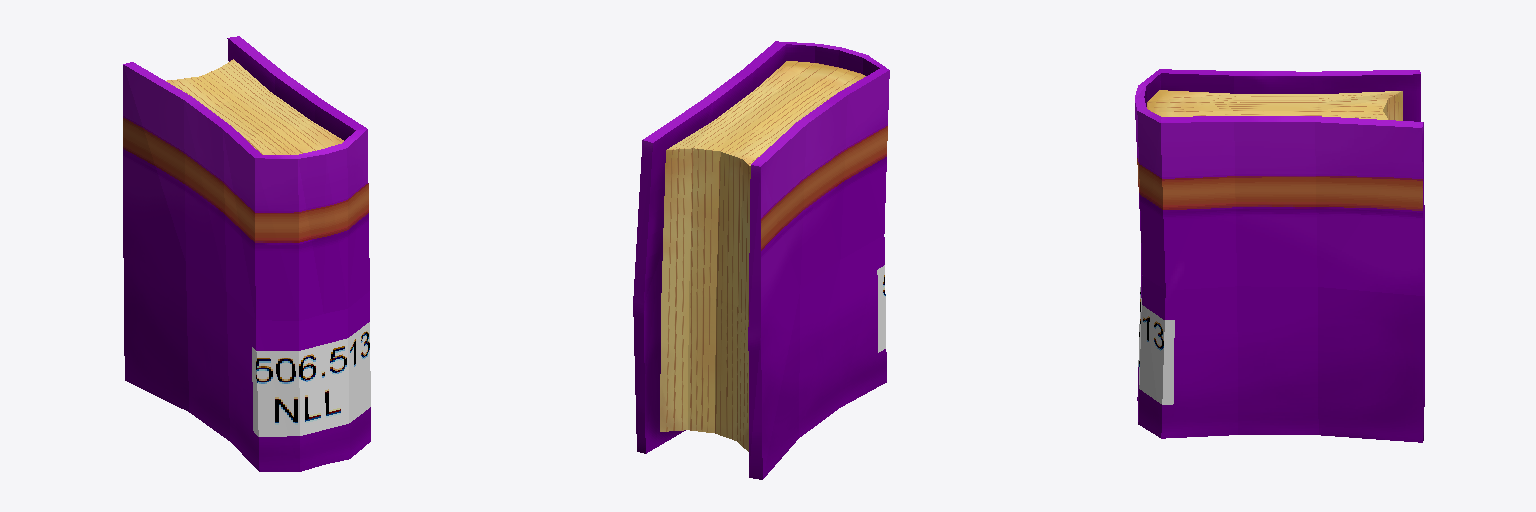
3 renders of one model, left to right at view 1: azimuth 30°, elevation 25°; view 2: azimuth 150°, elevation 25°; view 3: azimuth 270°, elevation 25°, orthographic.
Visible parts, largest first — view 1: Cover.001, Pages.002; view 2: Cover.001, Pages.002; view 3: Cover.001, Pages.002.
Boxes of the visible parts, <box> form: Cover.001: <box>123,36,370,471</box>; Pages.002: <box>166,59,343,154</box>; Cover.001: <box>633,41,889,479</box>; Pages.002: <box>660,61,865,451</box>; Cover.001: <box>1135,69,1424,442</box>; Pages.002: <box>1147,90,1402,120</box>.
Size of the model in its own units: 2.93 by 7.05 by 5.85.
Materials: 2 (2 with a texture image).